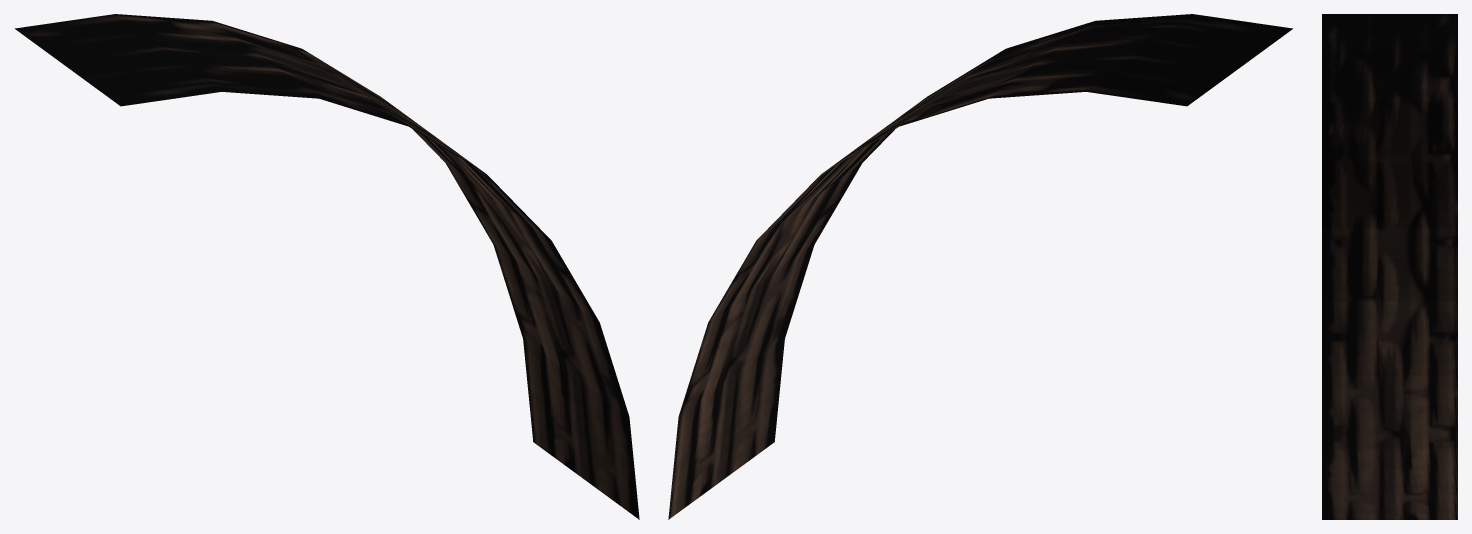
File: collide_InCorner3.obj
3 views of the same model, side by side, from view 1: azimuth 30°, elevation 25°; view 2: azimuth 150°, elevation 25°; view 3: azimuth 270°, elevation 25° (orthographic). The views are drawn at different scales.
Visible parts, largest first — view 1: ex_InCorner3_Cube.240; view 2: ex_InCorner3_Cube.240; view 3: ex_InCorner3_Cube.240.
Part boxes in pixels (x1=…): ex_InCorner3_Cube.240: x1=15, y1=14, x2=639, y2=519; ex_InCorner3_Cube.240: x1=668, y1=14, x2=1292, y2=519; ex_InCorner3_Cube.240: x1=1322, y1=14, x2=1457, y2=519.
Bounding box in the file's own units: 121 × 120 × 42.91.
